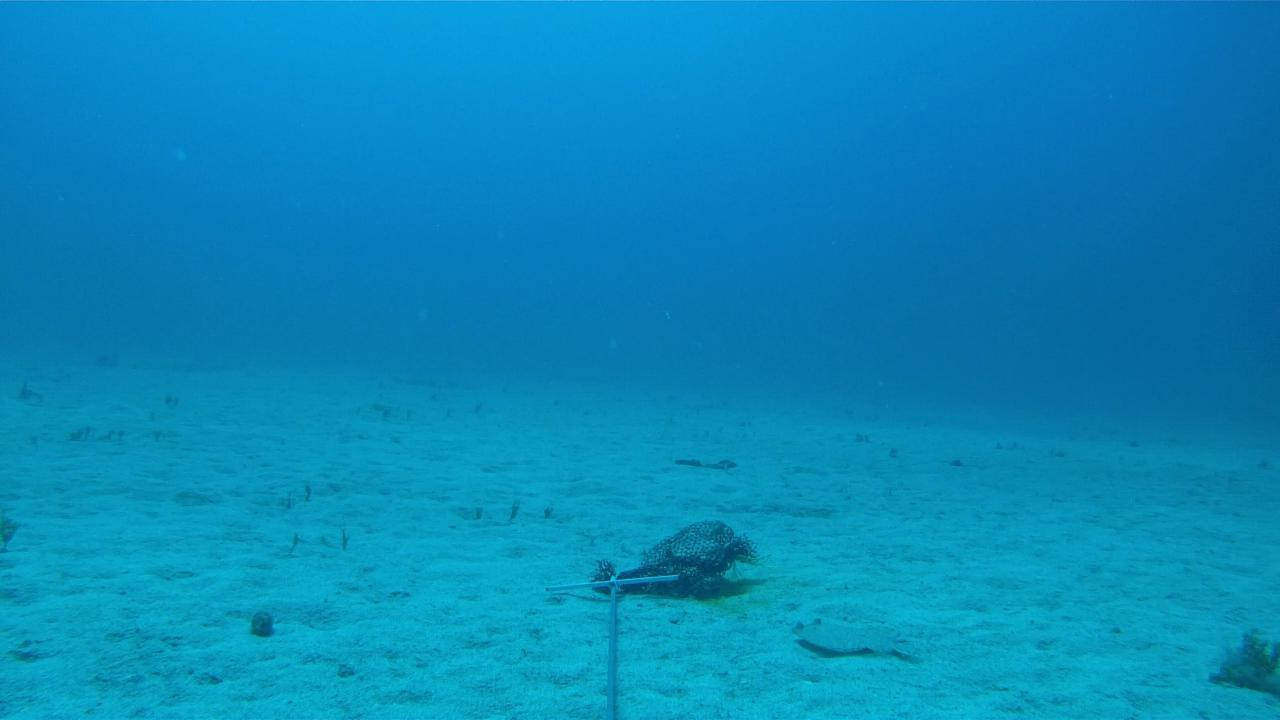bothus: (788, 613, 921, 660)
